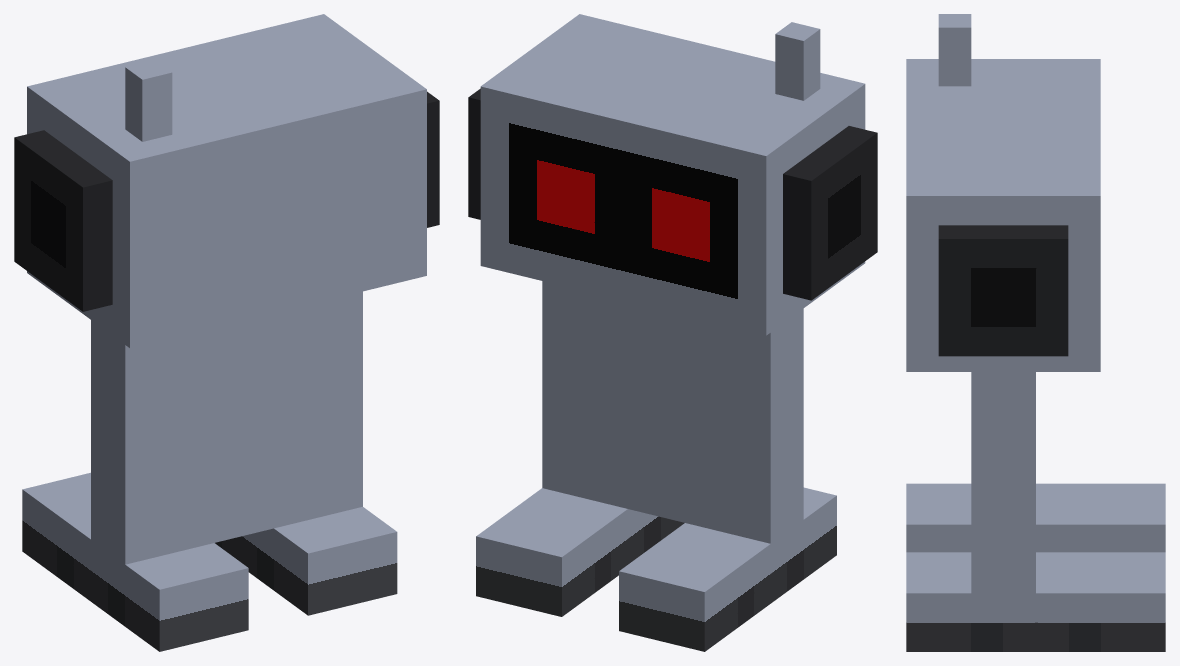
The model's file is player.gltf.
3 views of the same model, side by side, from view 1: azimuth 30°, elevation 25°; view 2: azimuth 150°, elevation 25°; view 3: azimuth 270°, elevation 25° (orthographic). The views are drawn at different scales.
Visible parts, largest first — view 1: head, torso, left-foot, blaster_base (×2), right-foot, antenna; view 2: head, torso, left-foot, right-foot, blaster_base (×2), antenna; view 3: head, right-foot, blaster_base, torso, left-foot, antenna.
Boxes of the visible parts, bbox=[...] form: head: bbox=[27, 14, 426, 348]; torso: bbox=[91, 291, 362, 564]; left-foot: bbox=[22, 472, 248, 651]; blaster_base (×2): bbox=[14, 91, 439, 311]; right-foot: bbox=[215, 507, 397, 615]; antenna: bbox=[125, 60, 172, 141]; head: bbox=[480, 14, 865, 335]; torso: bbox=[542, 281, 803, 543]; left-foot: bbox=[619, 487, 836, 651]; right-foot: bbox=[476, 488, 684, 616]; blaster_base (×2): bbox=[468, 88, 877, 300]; antenna: bbox=[775, 22, 820, 100]; head: bbox=[906, 59, 1100, 371]; right-foot: bbox=[906, 552, 1165, 651]; blaster_base: bbox=[938, 225, 1068, 356]; torso: bbox=[971, 372, 1035, 593]; left-foot: bbox=[906, 483, 1165, 552]; antenna: bbox=[938, 14, 971, 86].
Size of the model in its own units: 0.75 by 1.12 by 0.5.
Materials: 1 (1 with a texture image).
